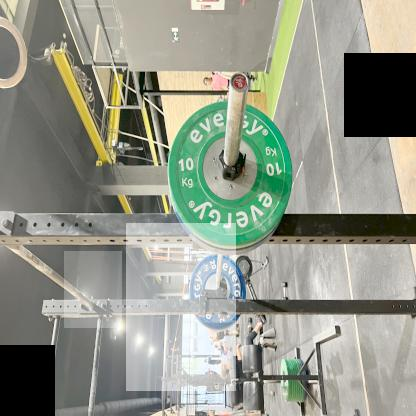barbell: (128, 224, 238, 392), (65, 252, 123, 329)
